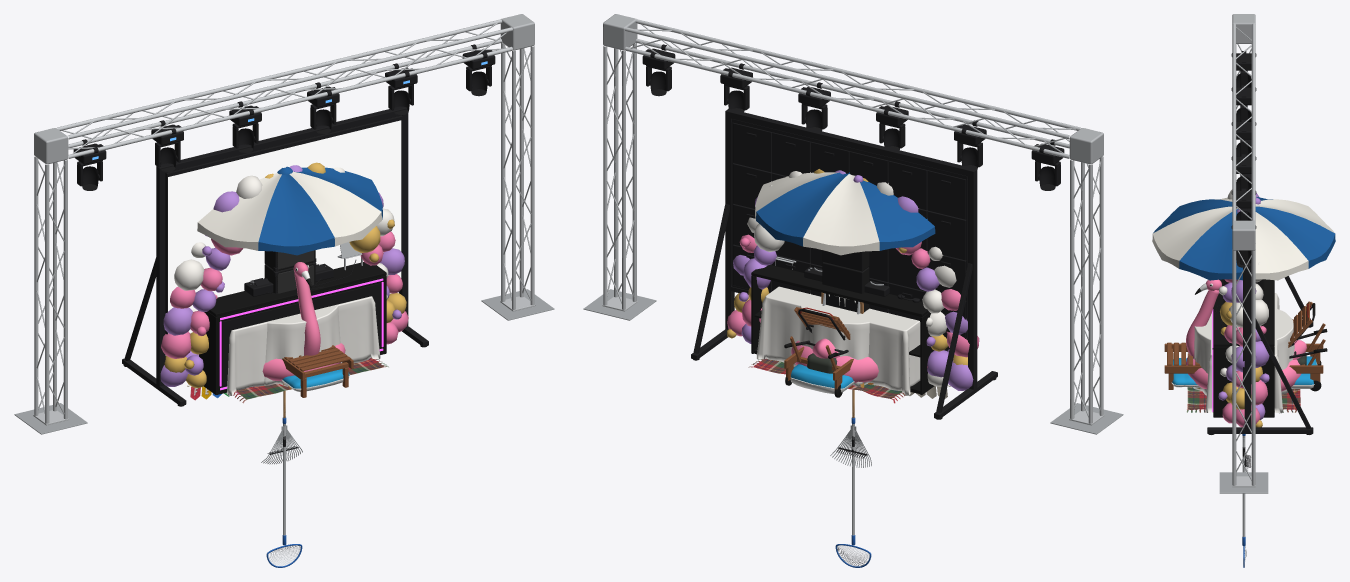
File: aderecos.glb
The picture shows the model from 3 angles, left to right: view 1: azimuth 30°, elevation 25°; view 2: azimuth 150°, elevation 25°; view 3: azimuth 270°, elevation 25°; orthographic projection. The views are drawn at different scales.
Visible parts, largest first — view 1: trelica_luzes, painel_led, guarda_sol, arco_baloes, cabine_dj, mesa_bolo, mesa_redonda_festa, boia_flamingo, espreguicadeira, caixa_som_grande, peneira_piscina, manta (+2 smaller); view 2: trelica_luzes, painel_led, guarda_sol, arco_baloes, mesa_bolo, cabine_dj, mesa_redonda_festa, caixa_som_grande, espreguicadeira, boia_flamingo, boia_colchao, peneira_piscina (+3 smaller); view 3: guarda_sol, trelica_luzes, arco_baloes, painel_led, cabine_dj, espreguicadeira, boia_flamingo, mesa_redonda_festa, mesa_bolo, manta, boia_colchao, peneira_piscina (+1 smaller).
Part boxes in pixels (x1,y1,x2,y2): trelica_luzes: [14, 14, 554, 434]; painel_led: [122, 106, 428, 406]; guarda_sol: [197, 166, 382, 255]; arco_baloes: [160, 162, 408, 388]; cabine_dj: [199, 242, 386, 394]; mesa_bolo: [226, 296, 380, 395]; mesa_redonda_festa: [264, 304, 341, 386]; boia_flamingo: [262, 262, 345, 381]; espreguicadeira: [282, 345, 353, 397]; caixa_som_grande: [264, 250, 316, 293]; peneira_piscina: [266, 417, 302, 567]; manta: [233, 358, 388, 403]; trelica_luzes: [583, 14, 1123, 434]; painel_led: [691, 109, 997, 419]; guarda_sol: [755, 172, 935, 255]; arco_baloes: [727, 169, 979, 390]; mesa_bolo: [756, 286, 920, 395]; cabine_dj: [751, 256, 949, 394]; mesa_redonda_festa: [799, 293, 893, 386]; caixa_som_grande: [822, 250, 869, 312]; espreguicadeira: [784, 307, 853, 397]; boia_flamingo: [791, 338, 878, 382]; boia_colchao: [790, 364, 854, 393]; peneira_piscina: [835, 417, 871, 567]; guarda_sol: [1152, 197, 1335, 280]; trelica_luzes: [1219, 14, 1268, 493]; arco_baloes: [1218, 189, 1269, 427]; painel_led: [1207, 139, 1313, 434]; cabine_dj: [1212, 279, 1274, 417]; espreguicadeira: [1164, 301, 1325, 391]; boia_flamingo: [1186, 279, 1306, 391]; mesa_redonda_festa: [1193, 308, 1294, 395]; mesa_bolo: [1205, 293, 1283, 413]; manta: [1186, 352, 1300, 412]; boia_colchao: [1171, 356, 1317, 388]; peneira_piscina: [1242, 434, 1246, 567].
Size of the model in its own units: 6.6 by 6.02 by 2.25.
124 materials, 13 textured.
